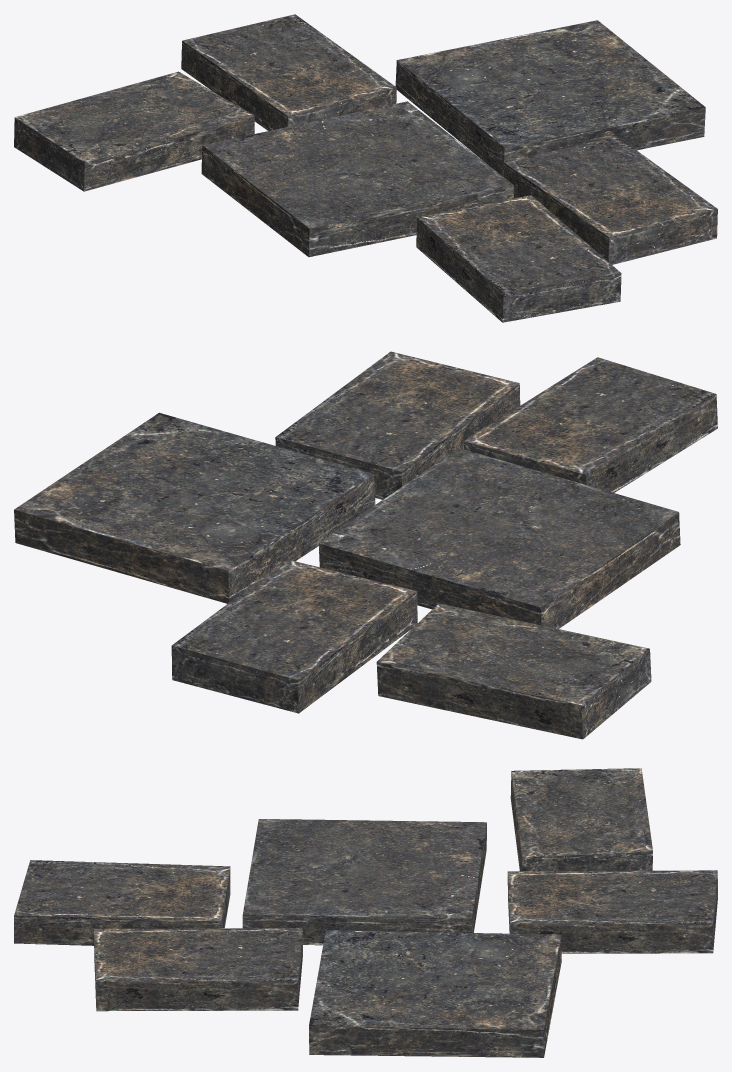
The model's file is Floor_01.fbx.
The picture shows the model from 3 angles, top to bottom: view 1: azimuth 30°, elevation 25°; view 2: azimuth 150°, elevation 25°; view 3: azimuth 270°, elevation 25°; orthographic projection. The views are drawn at different scales.
Parts seen in each view (by area): view 1: Stone_Bricks; view 2: Stone_Bricks; view 3: Stone_Bricks.
Part boxes in pixels (x1,y1,x2,y2): Stone_Bricks: [14, 14, 717, 322]; Stone_Bricks: [14, 351, 717, 739]; Stone_Bricks: [14, 768, 717, 1057].
Size of what is drawn, in the model's own units: 168 by 9.53 by 189.
